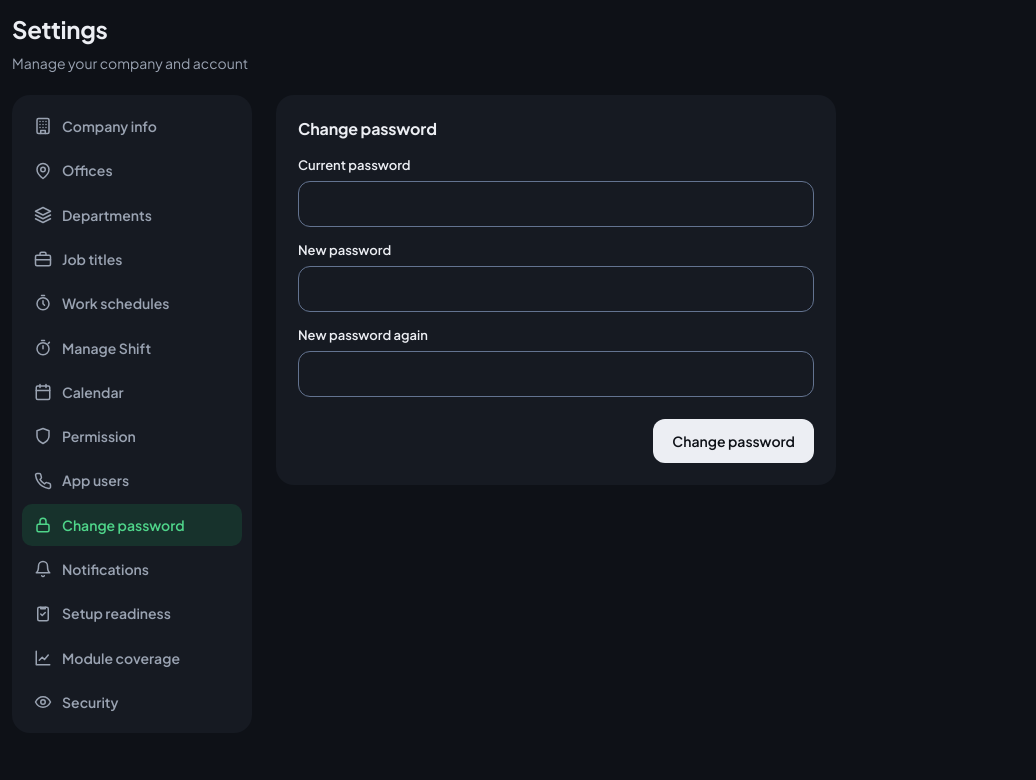
Scenario: Settings › will not send a new password shorter than eight or one that does not match
The image size is (1036, 780).
In the password field labelled "Current password": point(556, 204) [298,181,814,227], type "old-secret"
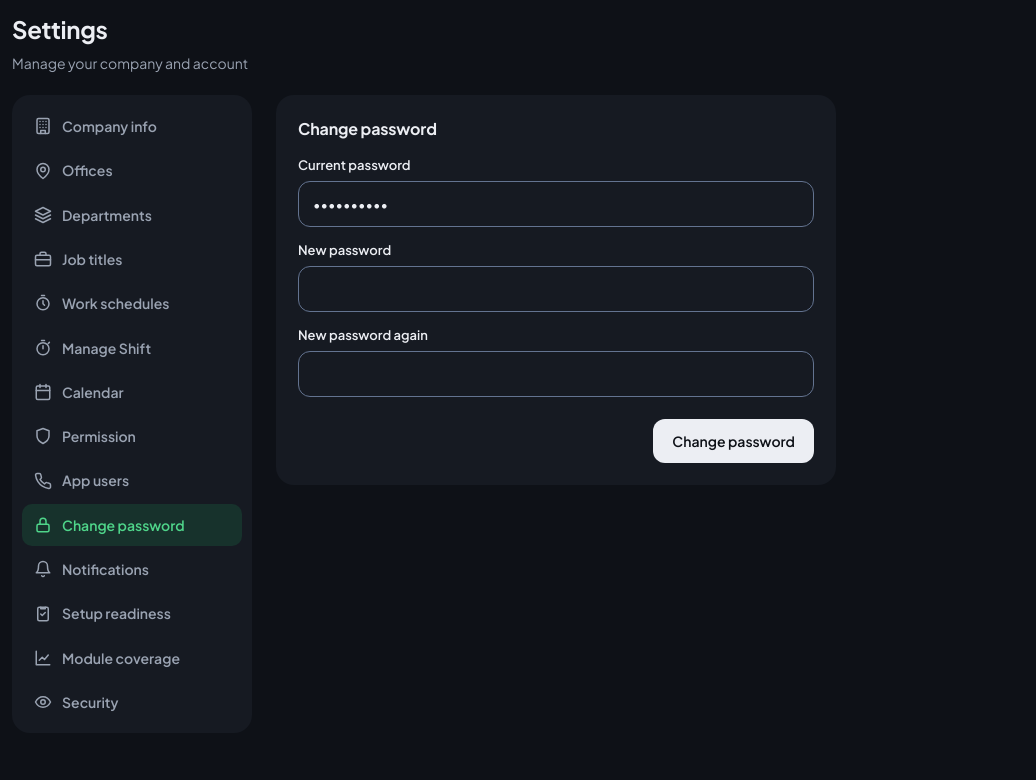
In the password field labelled "New password": point(556, 289) [298,266,814,312], type "short"
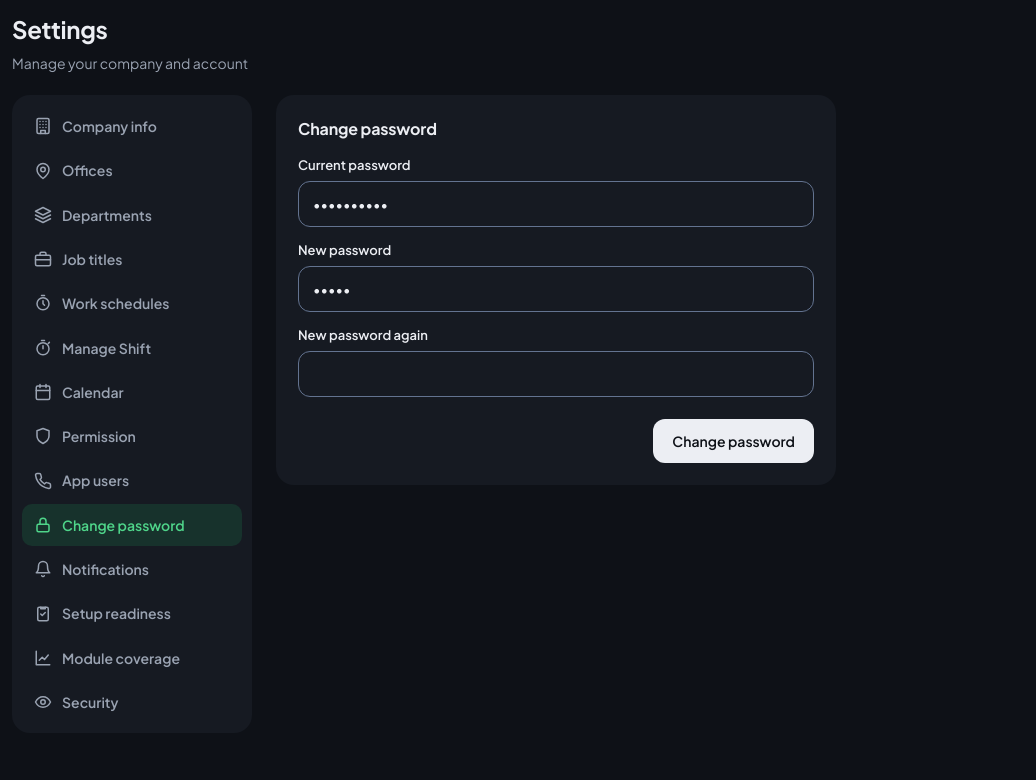
In the password field labelled "New password again": point(556, 374) [298,351,814,397], type "other"
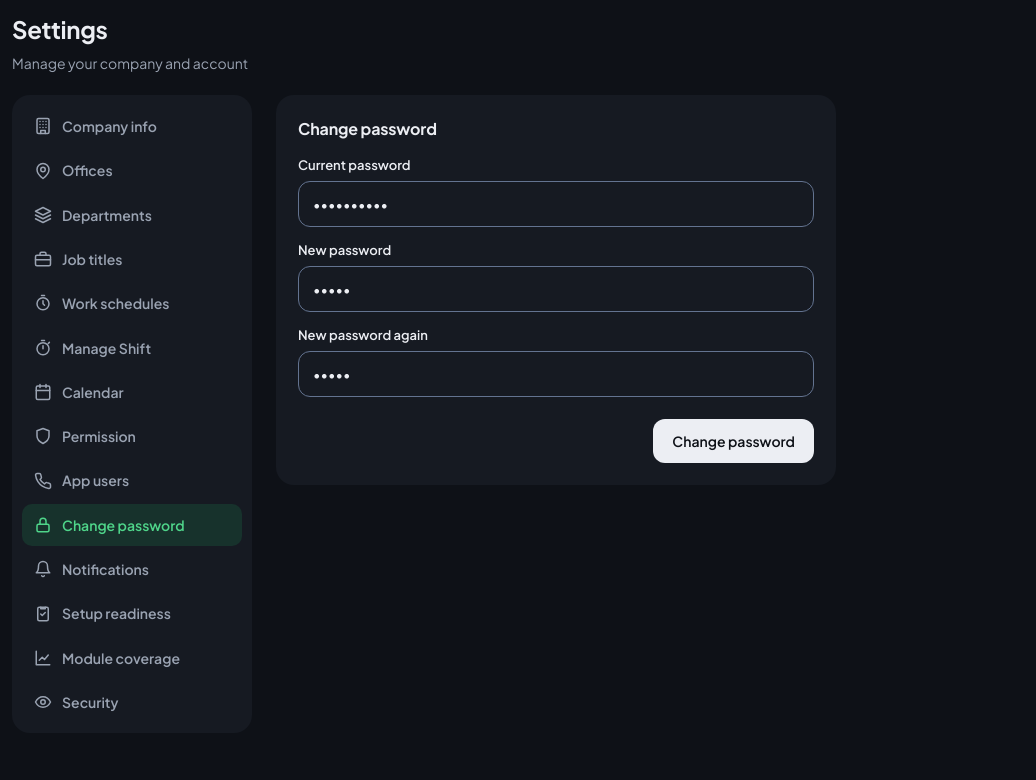
Submit the form, box [276,95,836,485]
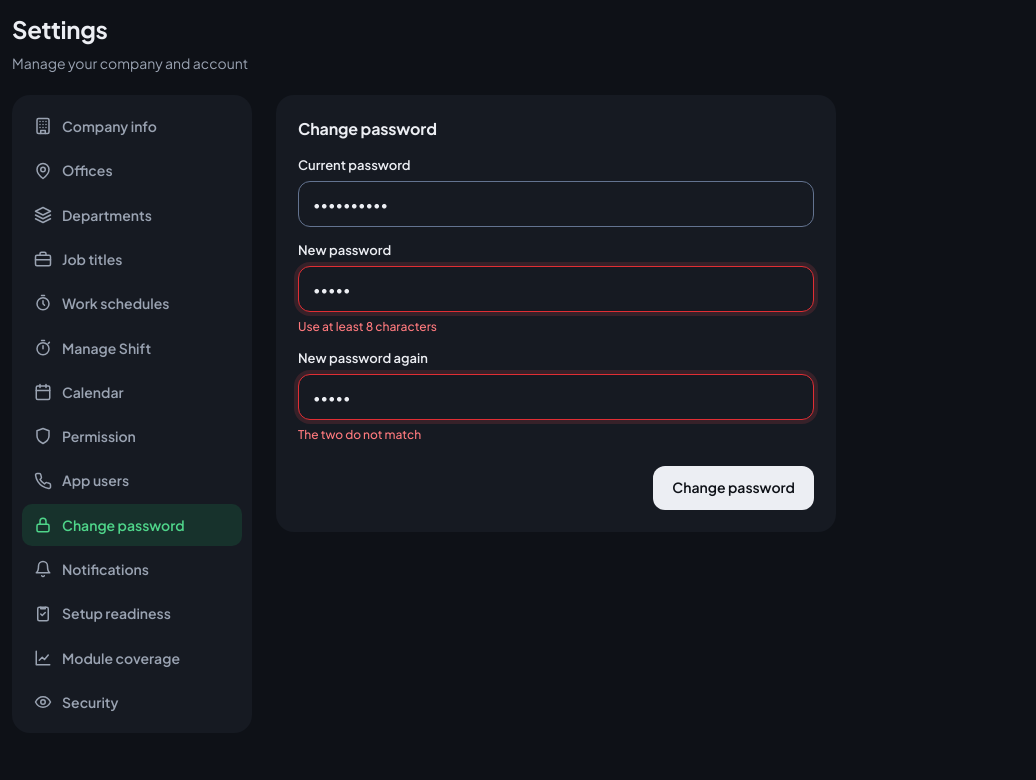
Now the text "Use at least 8 characters" is shown, box [298,319,437,334]
Now the text "The two do not match" is shown, box [298,427,421,442]
